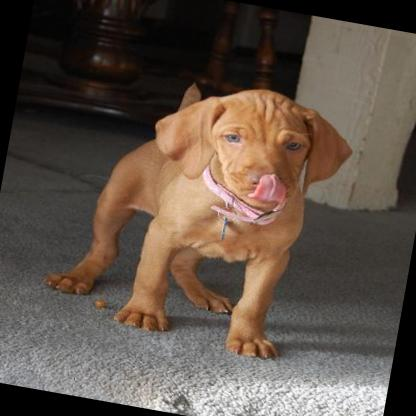vizsla: (32, 54, 362, 369)
